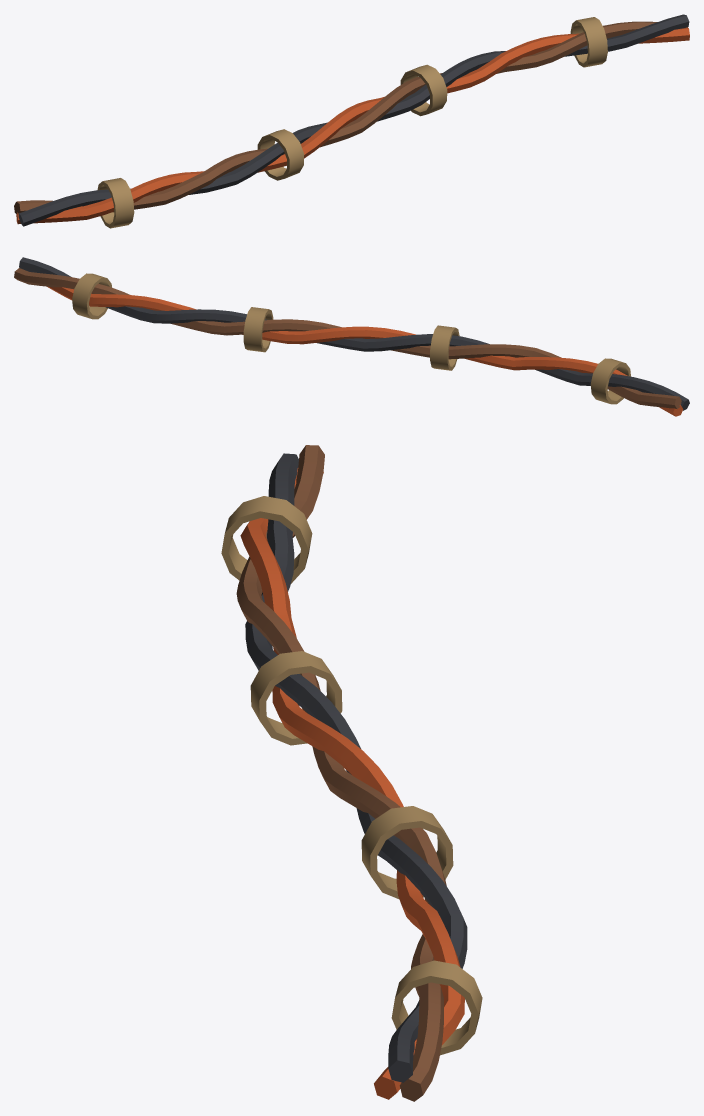
Rendered from deco_cable_bundle_ground.fbx.
3 views of the same model, one above another, from view 1: azimuth 30°, elevation 25°; view 2: azimuth 150°, elevation 25°; view 3: azimuth 270°, elevation 25° (orthographic). The views are drawn at different scales.
Parts seen in each view (by area): view 1: CableBundle_Ground_Cables, CableBundle_Ground_Wraps; view 2: CableBundle_Ground_Cables, CableBundle_Ground_Wraps; view 3: CableBundle_Ground_Cables, CableBundle_Ground_Wraps.
Part boxes in pixels (bbox=[...]): CableBundle_Ground_Cables: bbox=[14, 14, 689, 226]; CableBundle_Ground_Wraps: bbox=[97, 17, 607, 228]; CableBundle_Ground_Cables: bbox=[14, 257, 689, 416]; CableBundle_Ground_Wraps: bbox=[72, 273, 630, 404]; CableBundle_Ground_Cables: bbox=[236, 445, 467, 1101]; CableBundle_Ground_Wraps: bbox=[221, 496, 482, 1055].
Size of the model in its own units: 403 by 23.85 by 71.26.
